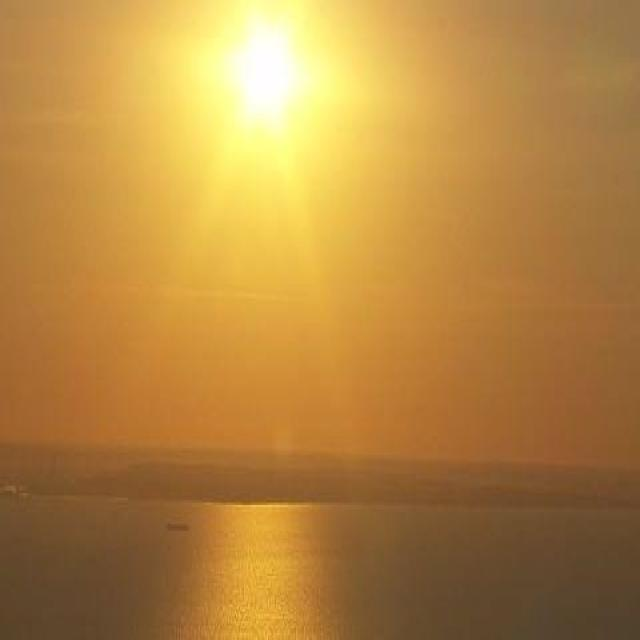other: (154, 0, 362, 232)
